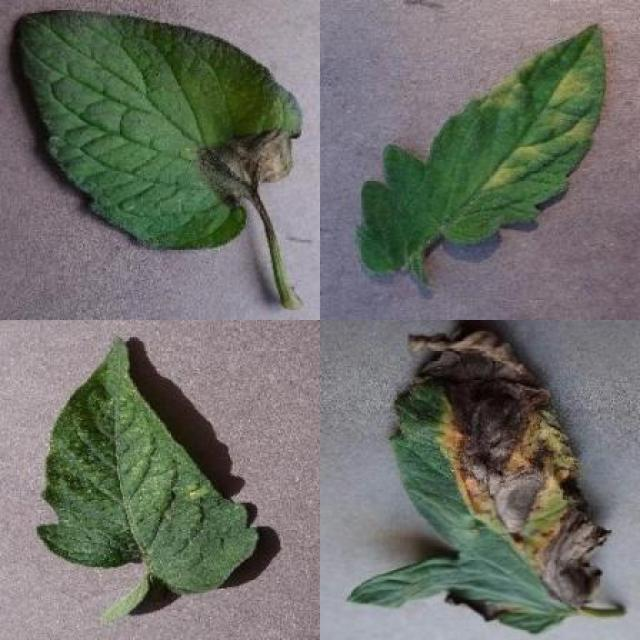Early Blight: (348, 323, 631, 637)
Late Blight: (12, 7, 307, 252)
Leaf Mold: (354, 24, 606, 279)
Spider Mites: (38, 334, 258, 597)
